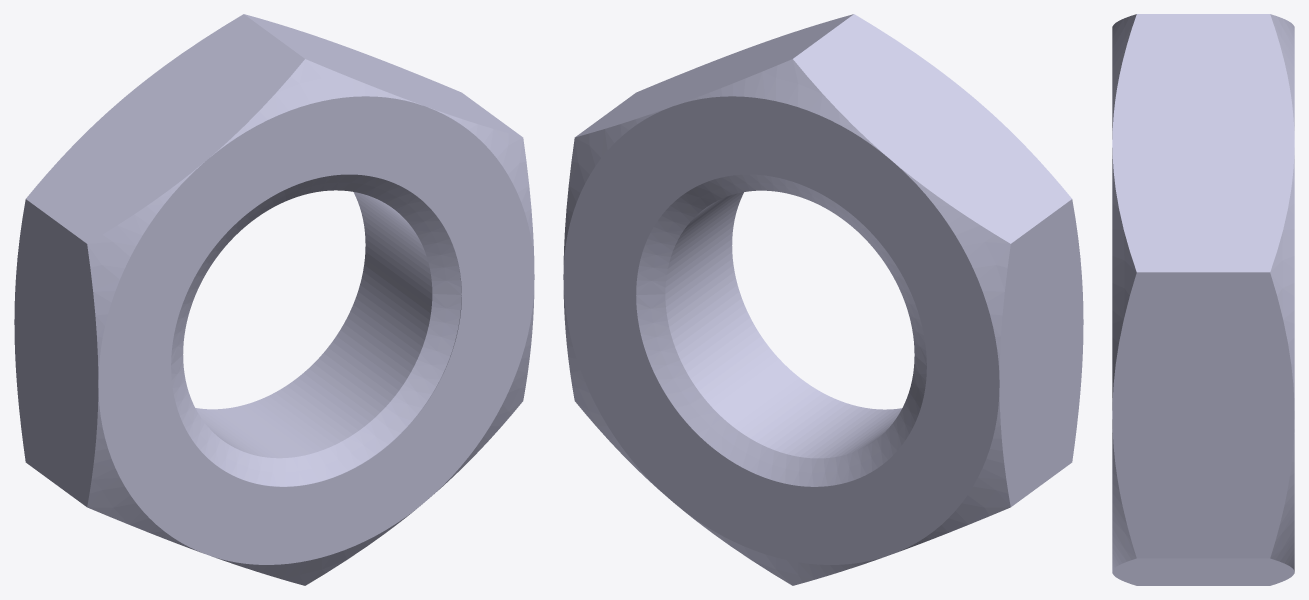
File: hexnutjam_am_b18_2_4_5mhexjamnutm14x2dn.dae
3 views of the same model, side by side, from view 1: azimuth 30°, elevation 25°; view 2: azimuth 150°, elevation 25°; view 3: azimuth 270°, elevation 25° (orthographic). The views are drawn at different scales.
Visible parts, largest first — view 1: node0; view 2: node0; view 3: node0.
Boxes of the visible parts, box(x1,y1,x2,y2) form: node0: box(14, 14, 534, 585); node0: box(563, 14, 1083, 585); node0: box(1112, 14, 1294, 585).
Bounding box in the file's own units: 0.021 × 0.007 × 0.0242.
